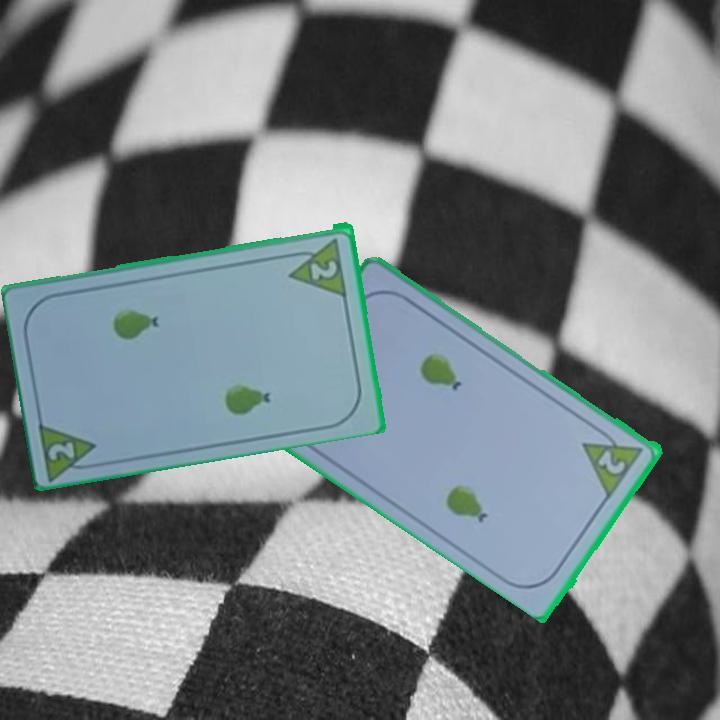2p: (36, 416, 105, 480), (283, 234, 350, 297), (594, 446, 630, 478)
